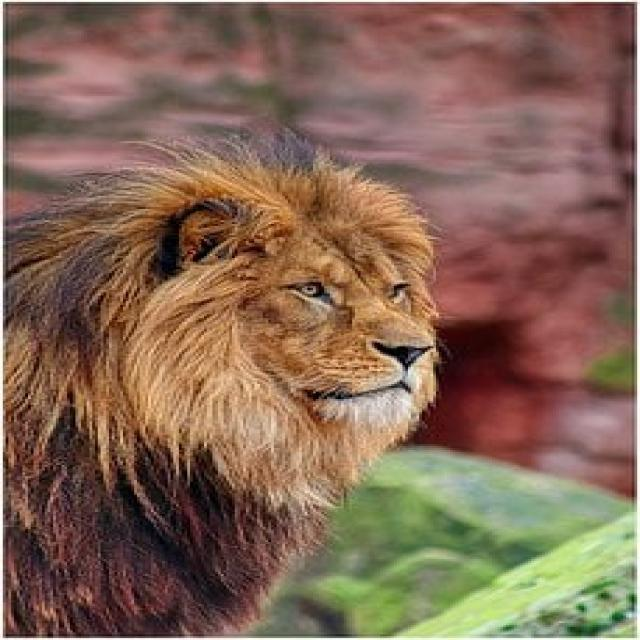Lion: (0, 172, 441, 625)
